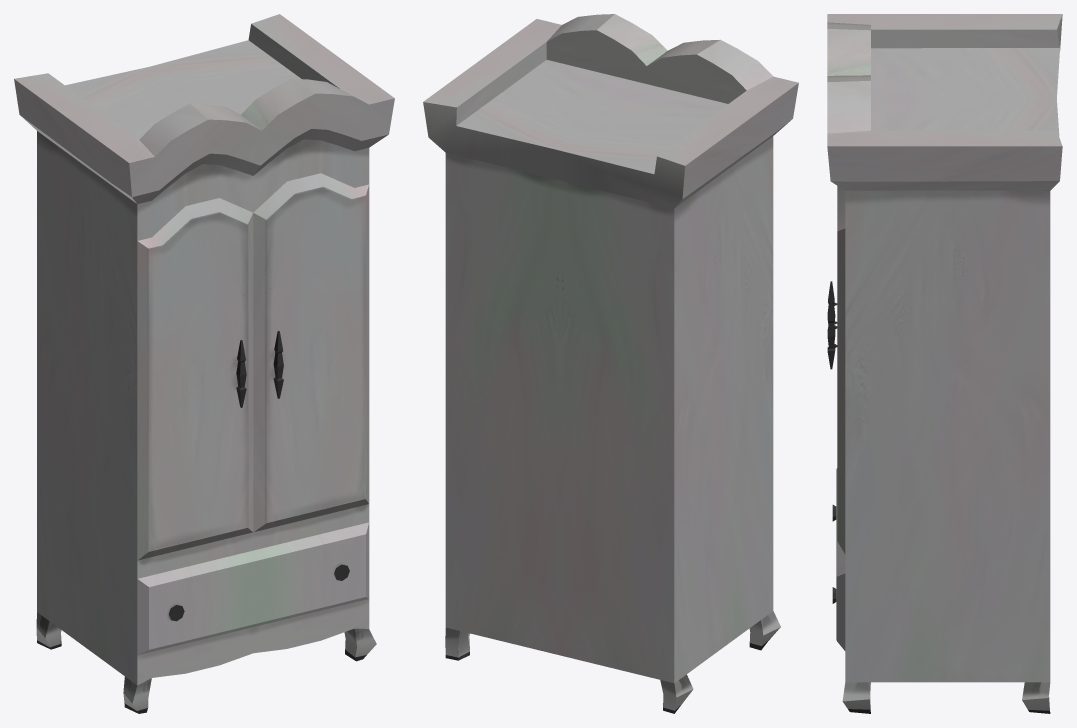
The model's file is wardrobe.glb.
3 views of the same model, side by side, from view 1: azimuth 30°, elevation 25°; view 2: azimuth 150°, elevation 25°; view 3: azimuth 270°, elevation 25° (orthographic). The views are drawn at different scales.
Visible parts, largest first — view 1: wardrobe; view 2: wardrobe; view 3: wardrobe.
Part boxes in pixels (<box>): wardrobe: <box>14,14,394,713</box>; wardrobe: <box>423,14,798,713</box>; wardrobe: <box>827,14,1062,713</box>.
Bounding box in the file's own units: 1.1 × 2.33 × 0.8265.
Materials: 1 (1 with a texture image).
